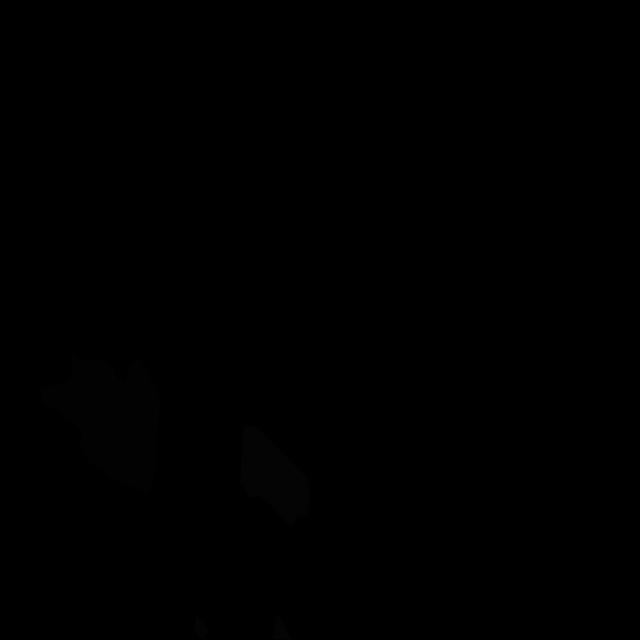cardboard: (41, 353, 160, 494)
soft_plastic: (240, 425, 310, 527), (272, 614, 291, 640), (194, 615, 209, 640)
